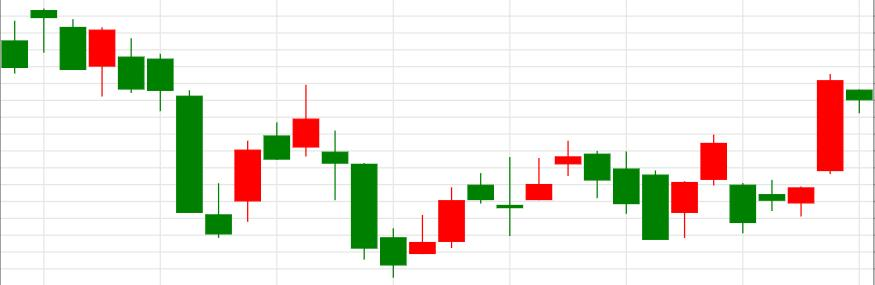shooting_star_fall: (205, 84, 320, 238)
